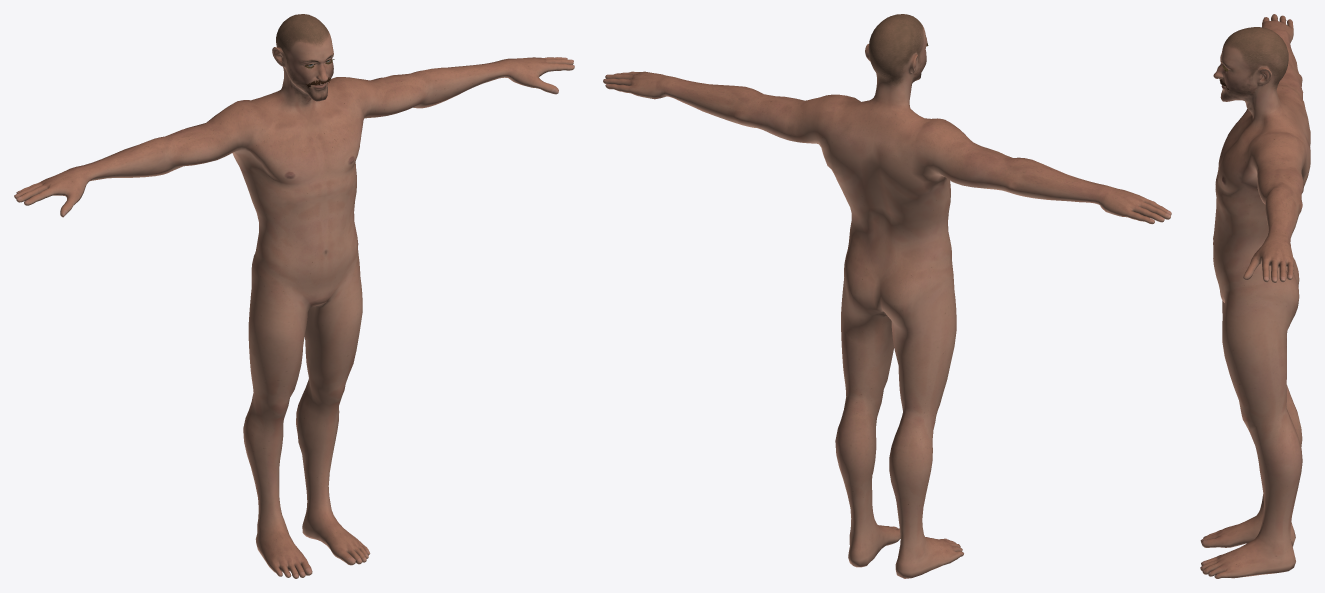
The model's file is ottomansoldier8.obj.
The picture shows the model from 3 angles, left to right: view 1: azimuth 30°, elevation 25°; view 2: azimuth 150°, elevation 25°; view 3: azimuth 270°, elevation 25°; orthographic projection. The views are drawn at different scales.
Visible parts, largest first — view 1: Body; view 2: Body; view 3: Body.
Part boxes in pixels (<box>): Body: <box>14,14,574,578</box>; Body: <box>603,14,1171,578</box>; Body: <box>1200,14,1310,578</box>.
Bounding box in the file's own units: 194 × 178 × 33.74.
2 materials, 2 textured.
